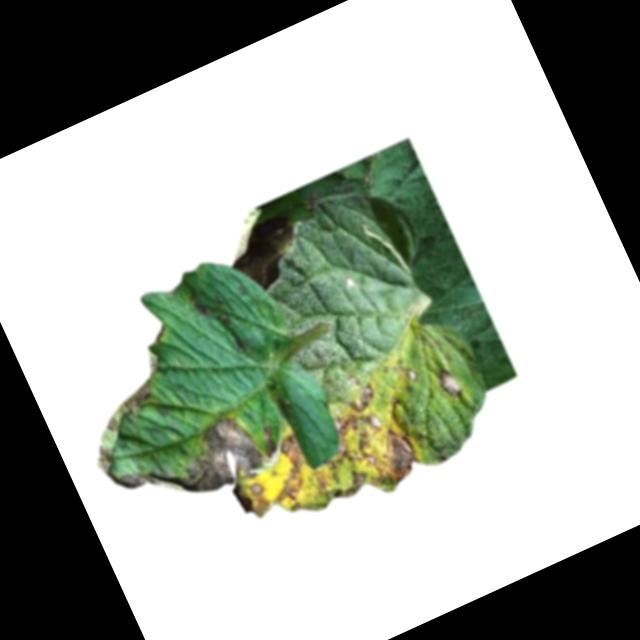Early_blight: (223, 378, 426, 550), (112, 400, 286, 528), (58, 344, 191, 474), (217, 195, 313, 297), (431, 362, 461, 398)
